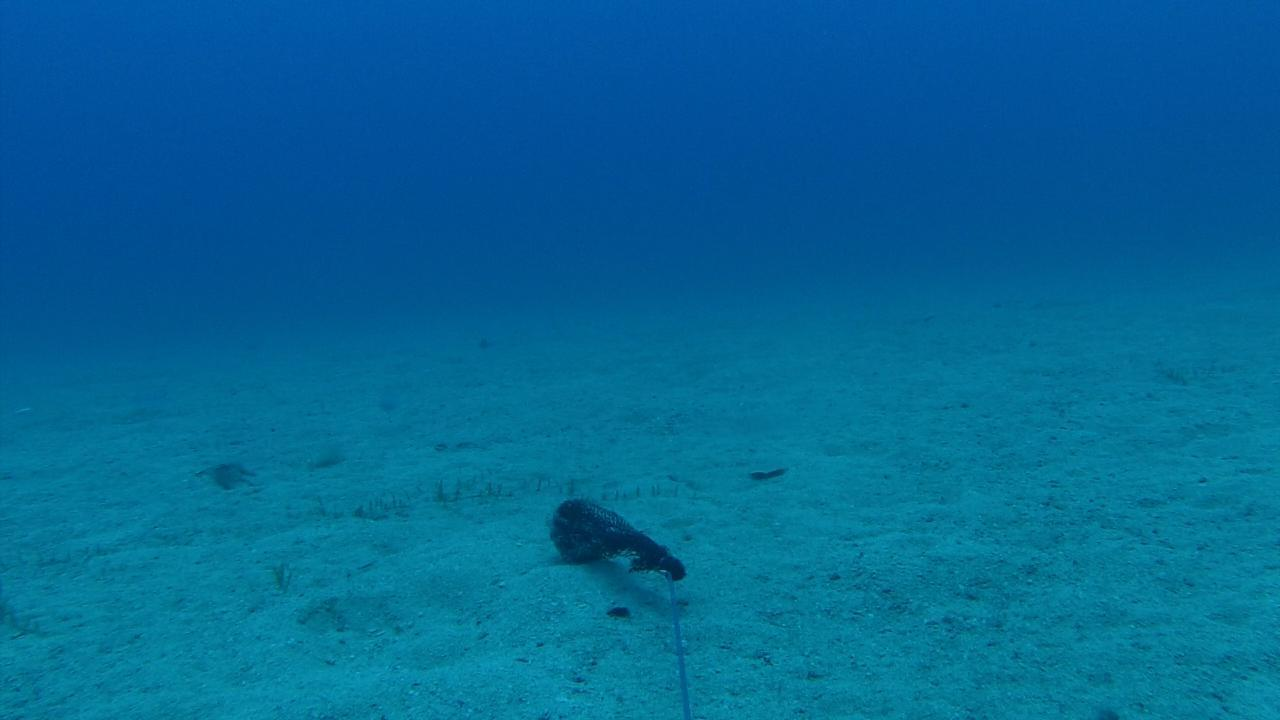bothus: (742, 456, 788, 482)
